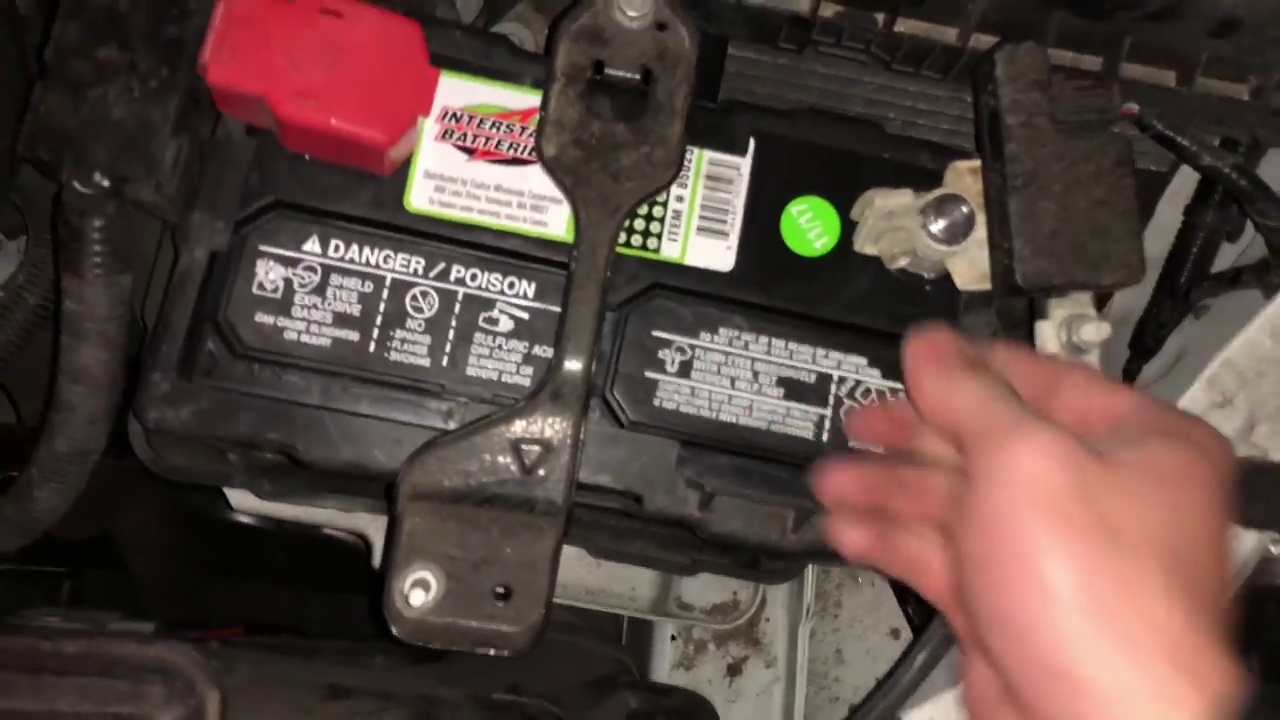battery: (220, 12, 1051, 561)
neg_connected: (828, 145, 1000, 287)
pos_connected: (174, 12, 452, 176)
